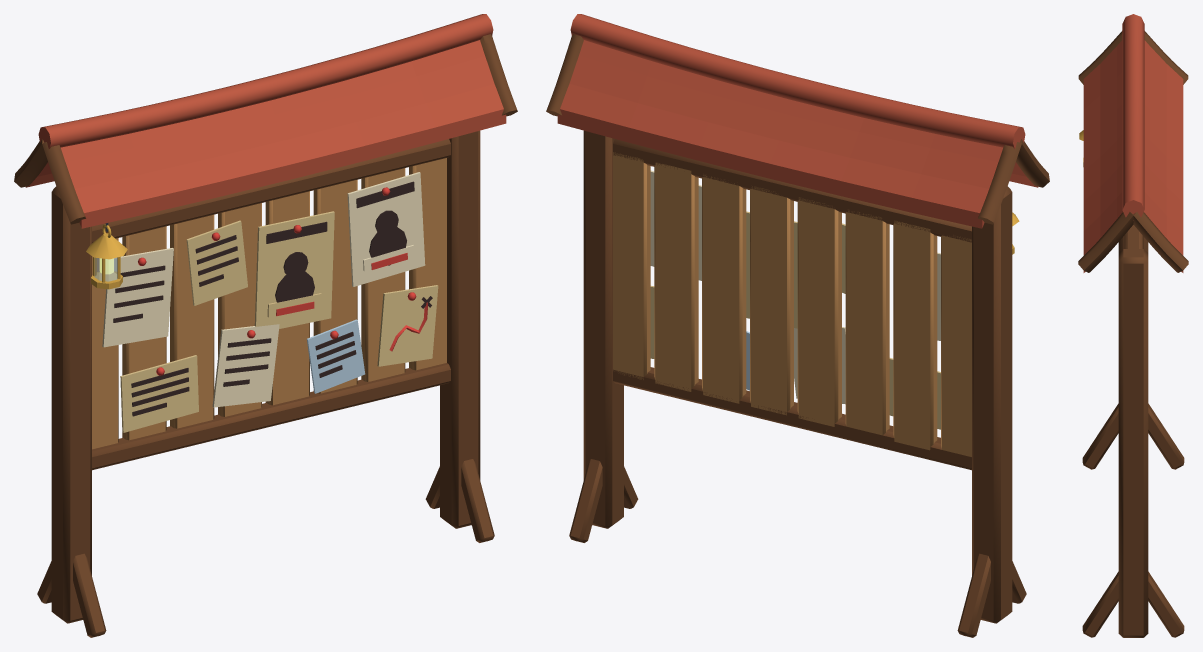
The model's file is prop_quest_board.glb.
The picture shows the model from 3 angles, left to right: view 1: azimuth 30°, elevation 25°; view 2: azimuth 150°, elevation 25°; view 3: azimuth 270°, elevation 25°; orthographic projection. The views are drawn at different scales.
Visible parts, largest first — view 1: QuestBoard; view 2: QuestBoard; view 3: QuestBoard.
Boxes of the visible parts, box(x1,y1,x2,y2) form: QuestBoard: box(14, 14, 517, 637); QuestBoard: box(546, 14, 1049, 637); QuestBoard: box(1078, 14, 1188, 637).
Size of what is drawn, in the model's own units: 2.49 by 2.68 by 0.5977.
